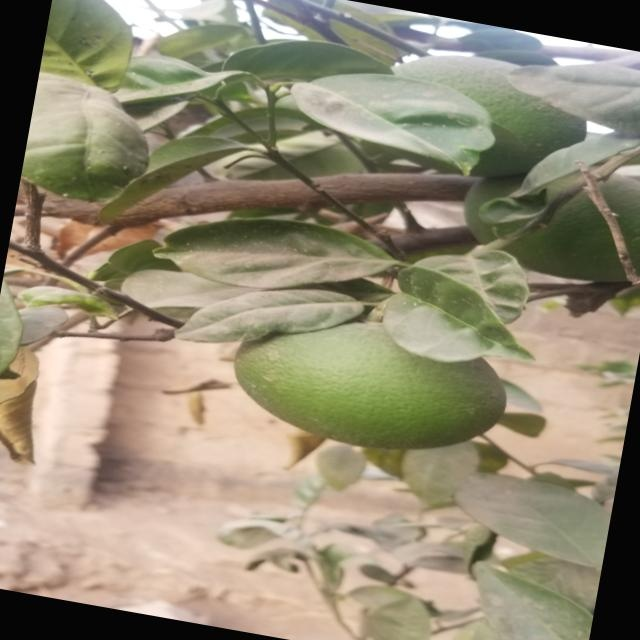agrume: (226, 321, 508, 467), (445, 138, 640, 300), (405, 42, 573, 182)
